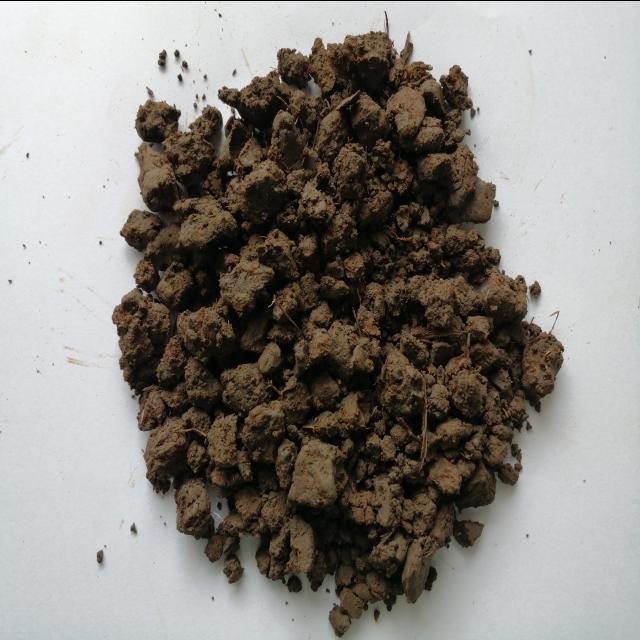soil: (152, 94, 466, 550)
